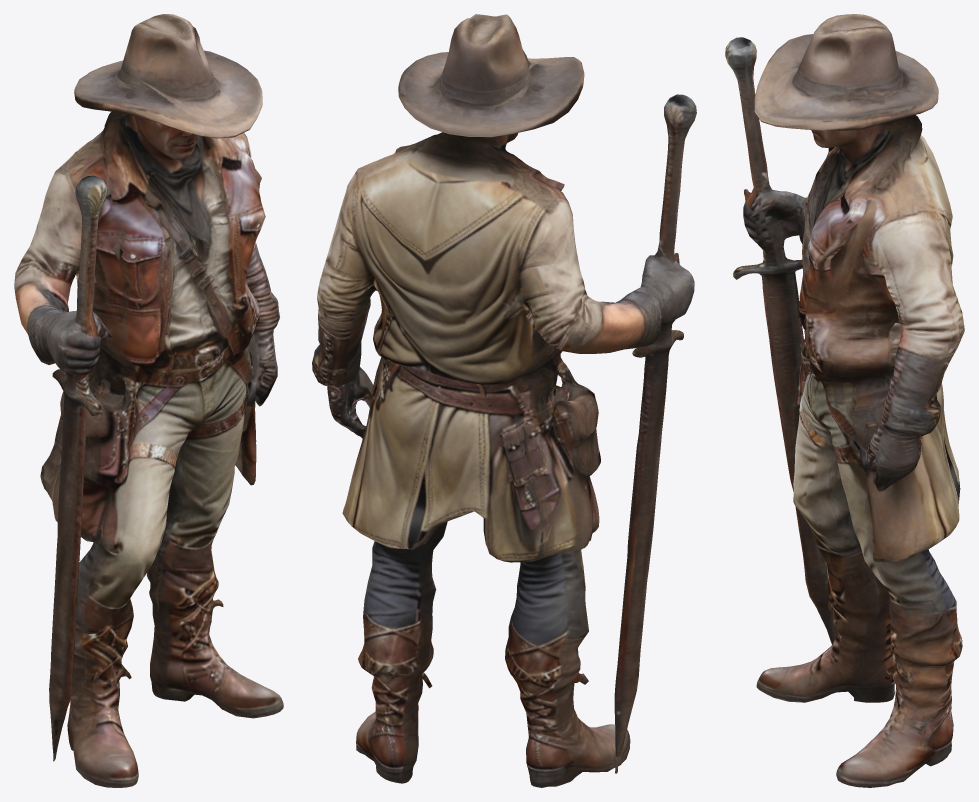
The model's file is npc7.glb.
3 renders of one model, left to right at view 1: azimuth 30°, elevation 25°; view 2: azimuth 150°, elevation 25°; view 3: azimuth 270°, elevation 25°, orthographic. The views are drawn at different scales.
Parts seen in each view (by area): view 1: Object_4; view 2: Object_4; view 3: Object_4.
Part boxes in pixels (left/top/right/bottom): Object_4: left=14, top=14, right=283, bottom=787; Object_4: left=312, top=14, right=696, bottom=787; Object_4: left=725, top=14, right=964, bottom=787.
Size of the model in its own units: 0.4257 by 1 by 0.3051.
1 material, 1 textured.
